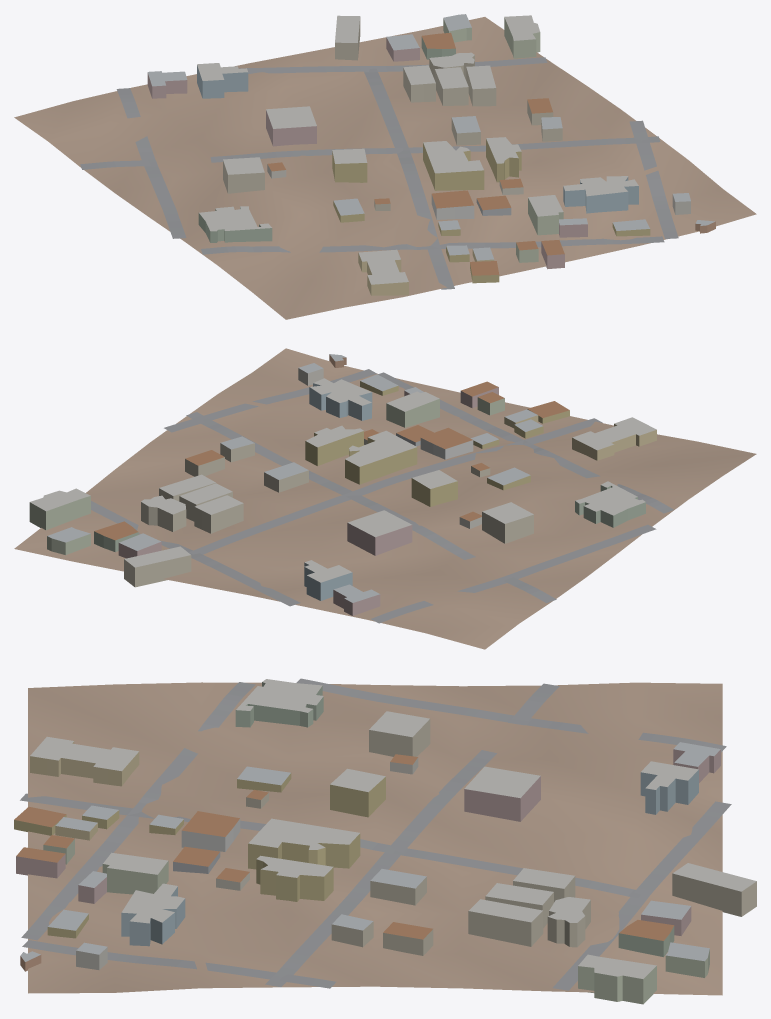
The picture shows the model from 3 angles, top to bottom: view 1: azimuth 30°, elevation 25°; view 2: azimuth 150°, elevation 25°; view 3: azimuth 270°, elevation 25°; orthographic projection. The views are drawn at different scales.
Visible parts, largest first — view 1: Lo; view 2: Lo; view 3: Lo.
Part boxes in pixels (box(x1,y1,x2,y2)): Lo: box(14, 14, 756, 319); Lo: box(14, 348, 756, 649); Lo: box(14, 678, 756, 1004).
Bounding box in the file's own units: 268 × 18.23 × 274.
